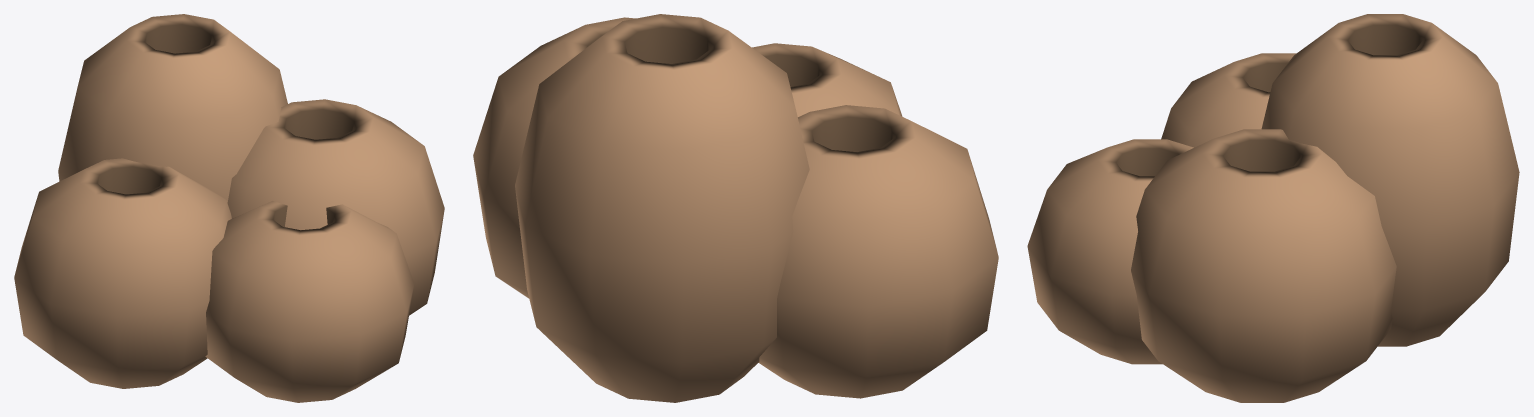
Rendered from cushion-sponge.glb.
3 renders of one model, left to right at view 1: azimuth 30°, elevation 25°; view 2: azimuth 150°, elevation 25°; view 3: azimuth 270°, elevation 25°, orthographic. The views are drawn at different scales.
Visible parts, largest first — view 1: cushion-sponge; view 2: cushion-sponge; view 3: cushion-sponge.
Boxes of the visible parts, x1,y1,x2,y2 form: cushion-sponge: [14, 14, 444, 402]; cushion-sponge: [473, 14, 998, 402]; cushion-sponge: [1027, 14, 1519, 402].
Bounding box in the file's own units: 0.9 × 0.6 × 0.914.
